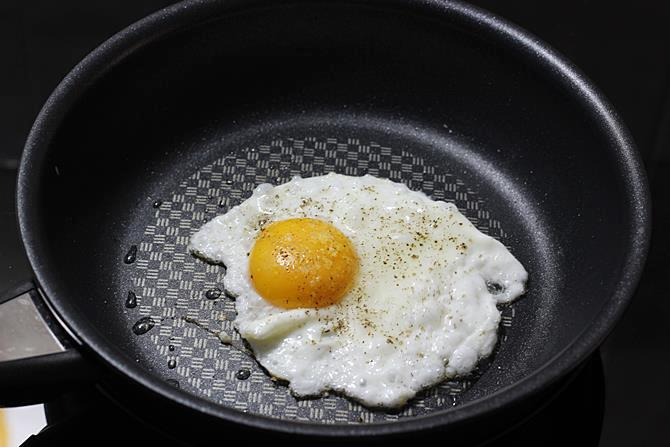fried egg: (240, 191, 502, 379)
